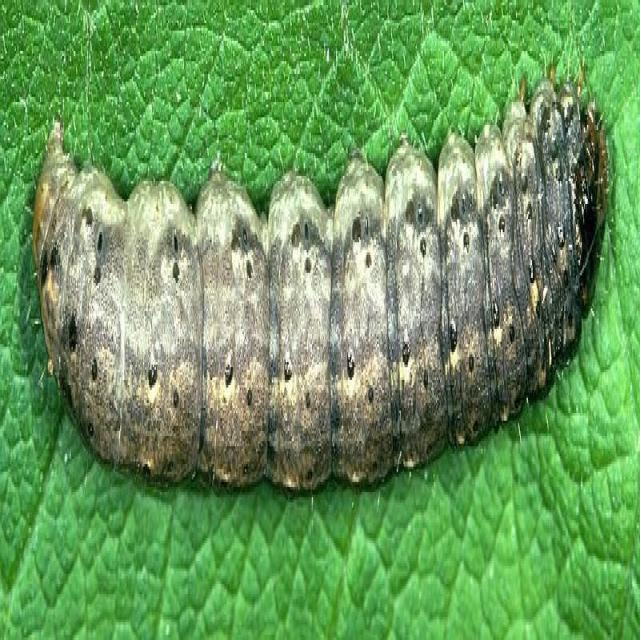black cutworm: (25, 97, 607, 502)
